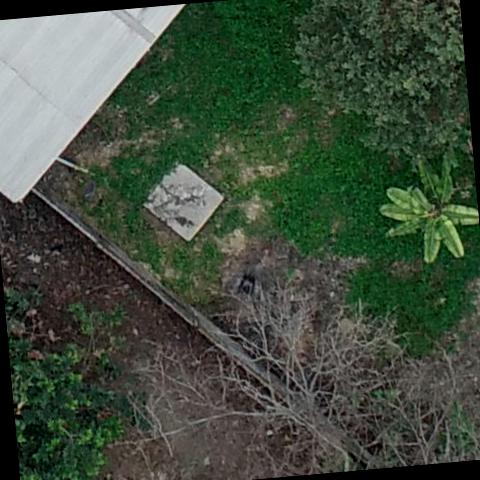Banana-plant: (371, 148, 480, 269)
